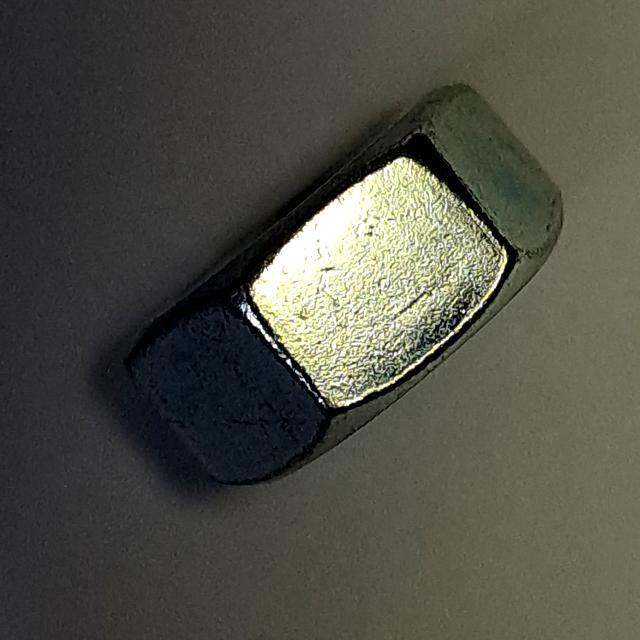Side_Excellent: (113, 75, 576, 502)
